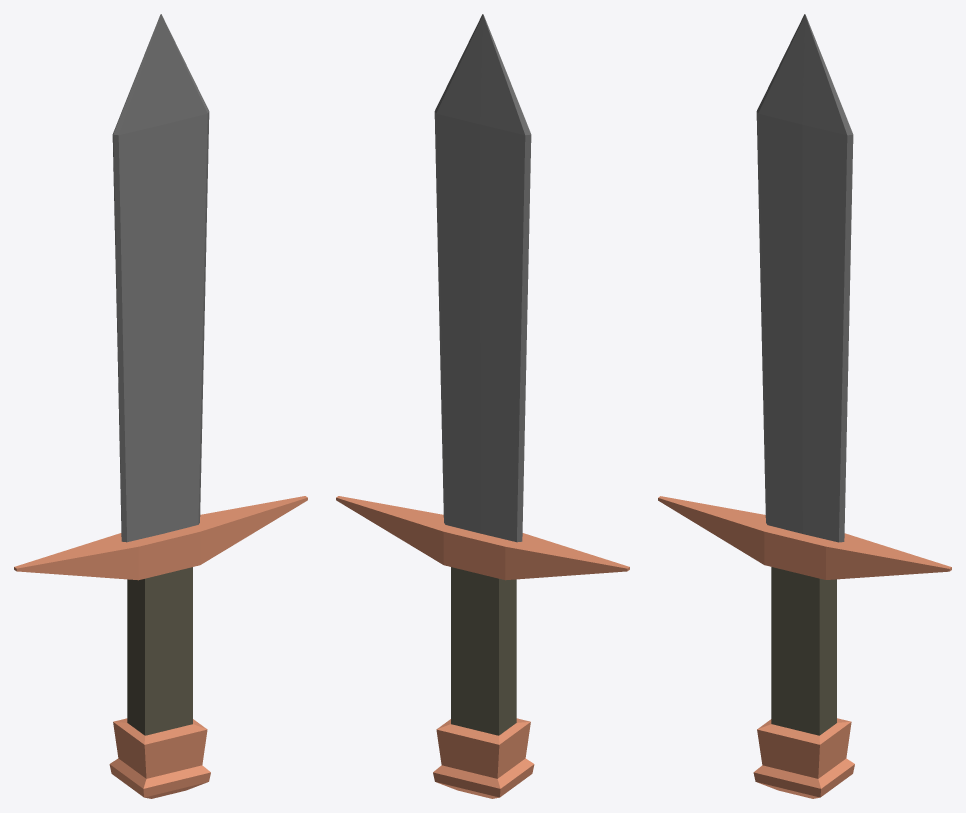
Rendered from sword.glb.
3 renders of one model, left to right at view 1: azimuth 30°, elevation 25°; view 2: azimuth 150°, elevation 25°; view 3: azimuth 330°, elevation 25°, orthographic.
Visible parts, largest first — view 1: Cube, Cube.001; view 2: Cube, Cube.001; view 3: Cube, Cube.001.
Boxes of the visible parts, <box> form: Cube: <box>112,14,209,542</box>; Cube.001: <box>14,496,307,798</box>; Cube: <box>434,14,531,542</box>; Cube.001: <box>336,496,629,798</box>; Cube: <box>756,14,853,542</box>; Cube.001: <box>658,496,951,798</box>.
Size of the model in its own units: 4.68 by 11.94 by 0.9446.
